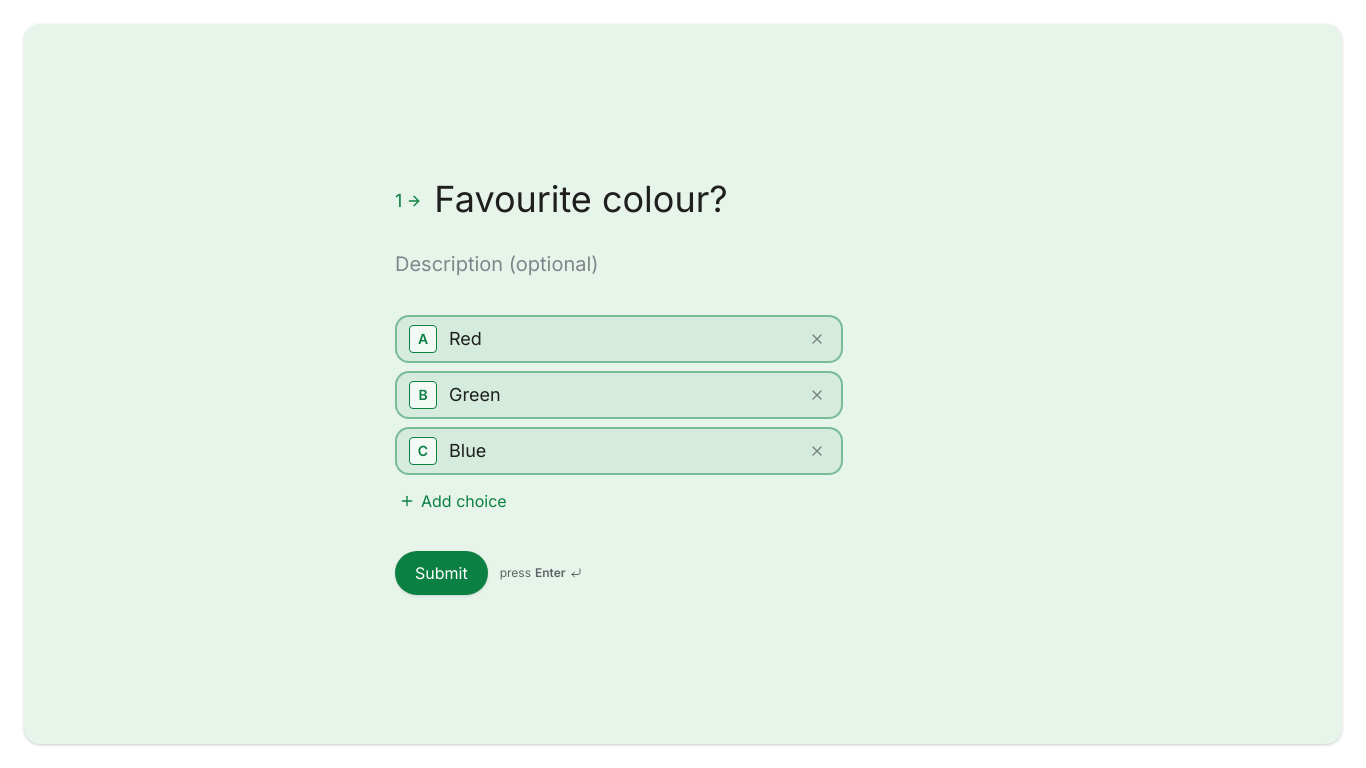
Test: QuestionCanvas › Enter in a choice adds a new choice right after it and focuses it
The image size is (1366, 768).
Step 1. Click the field named "Choice 1" → (621, 339), box [449,325,793,353]
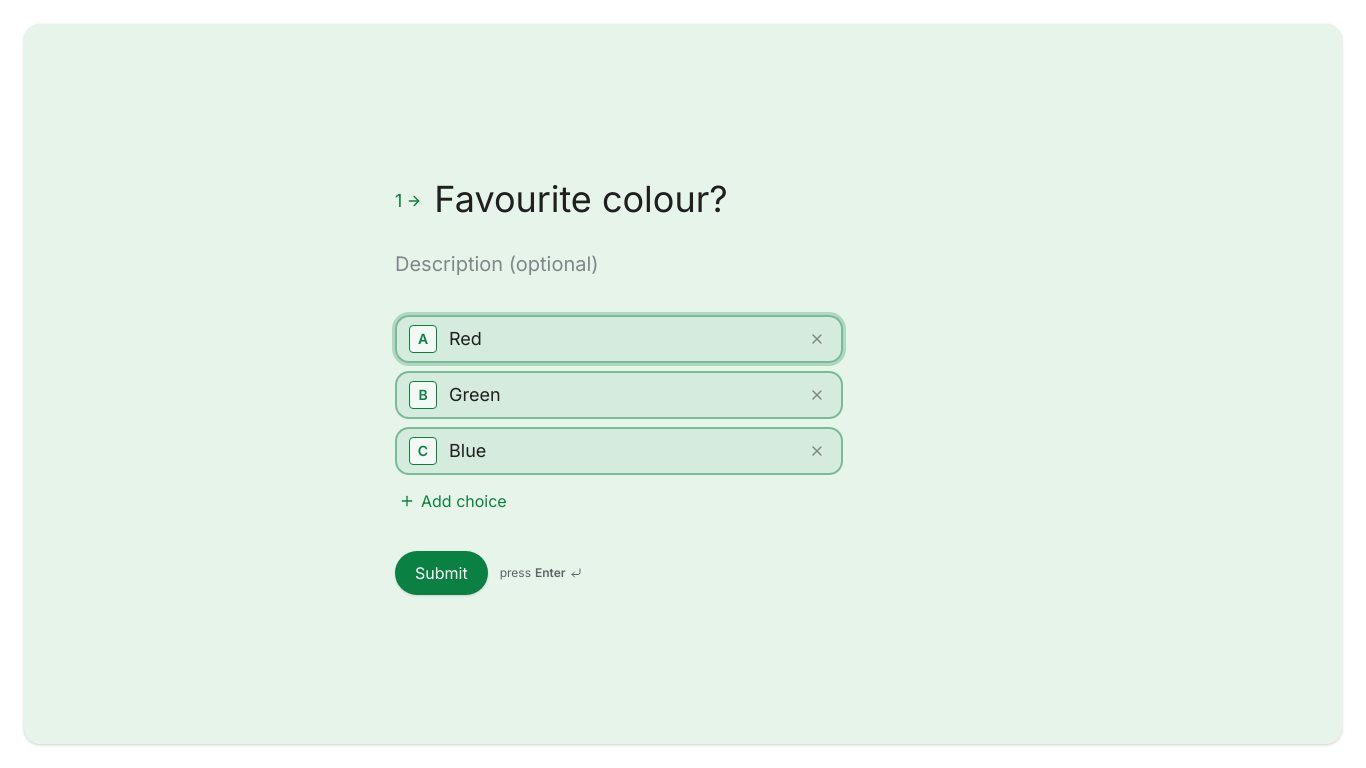
Step 2. Press Enter
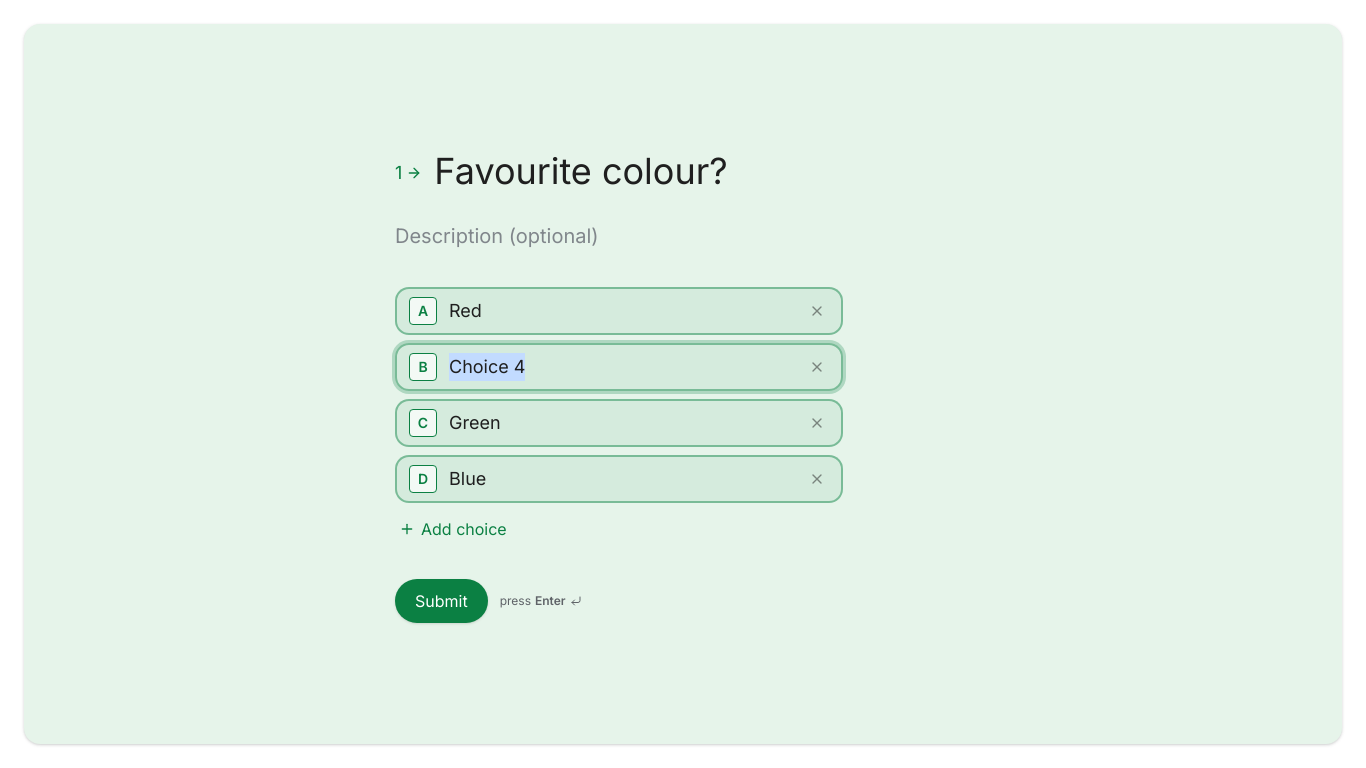
Now the field named "Choice 2" holds "Choice 4", box [449,353,793,381]
